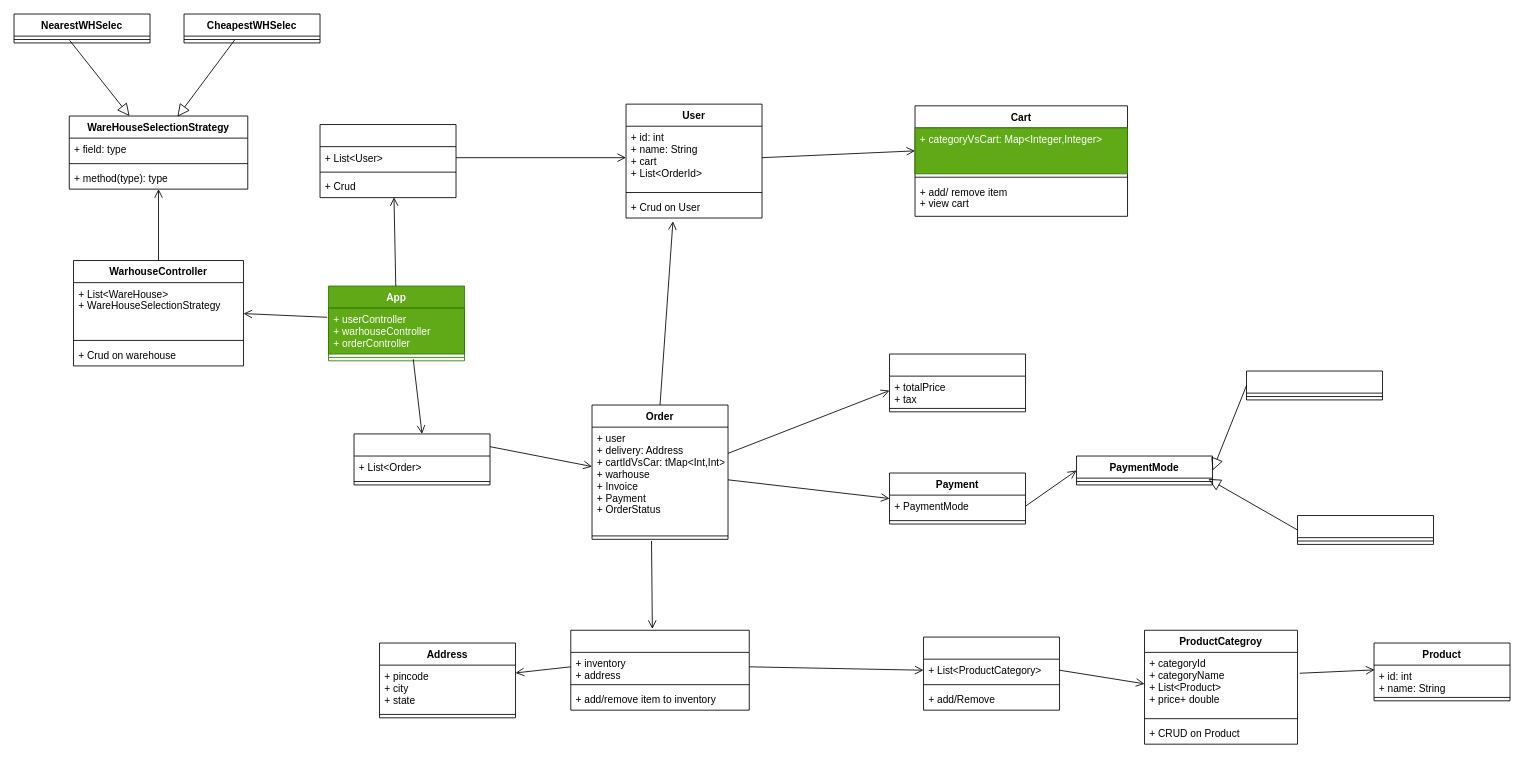
This 1524x758 diagram has some shape labels left out. Here are the shapes that lost their labels. From the top down, the box of each, then its label:
(319, 124, 456, 198): UserController
(889, 353, 1026, 412): Invoice
(1246, 370, 1383, 400): UPI
(353, 433, 490, 485): OrderController
(1297, 515, 1434, 544): CC
(570, 629, 749, 710): Warhouse
(923, 636, 1060, 710): Inventory
